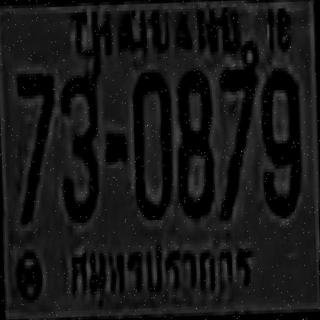N00: (130, 69, 173, 217)
N03: (57, 73, 100, 218)
N07: (214, 61, 259, 216), (14, 68, 57, 220)
N08: (173, 67, 214, 216)
N09: (257, 64, 300, 213)
P57: (61, 227, 264, 312)
